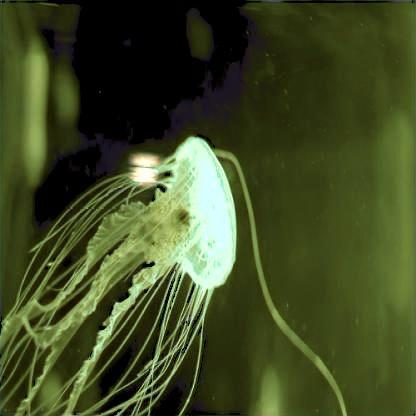Mosaic: (11, 138, 235, 405)
